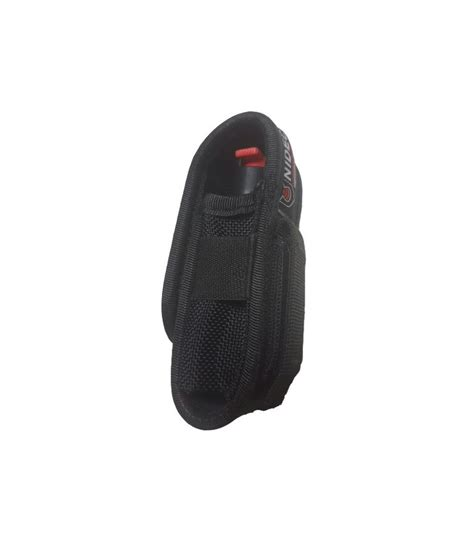nylon: (161, 112, 305, 430)
